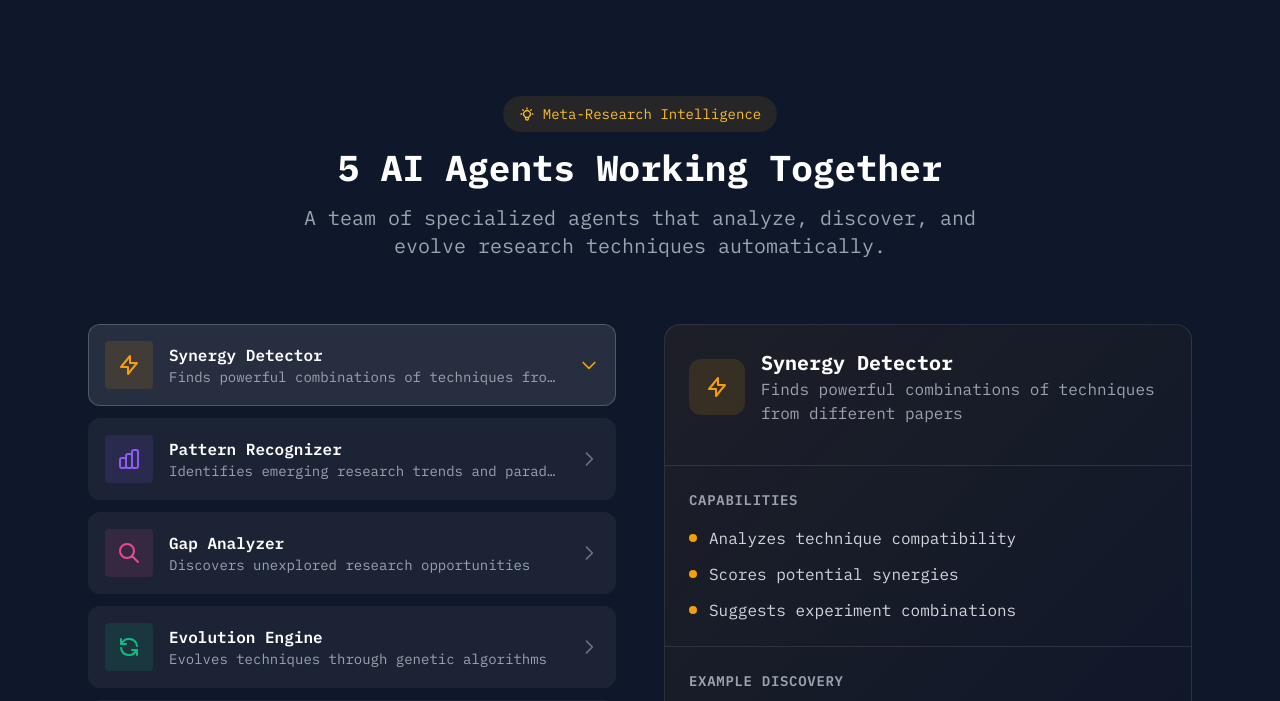
Scenario: MetaAgentFeature › Agent Selection › should switch to Gap Analyzer when clicked
Step 1. Click the button "Gap Analyzer" → point(352, 553), box [88,512,616,594]
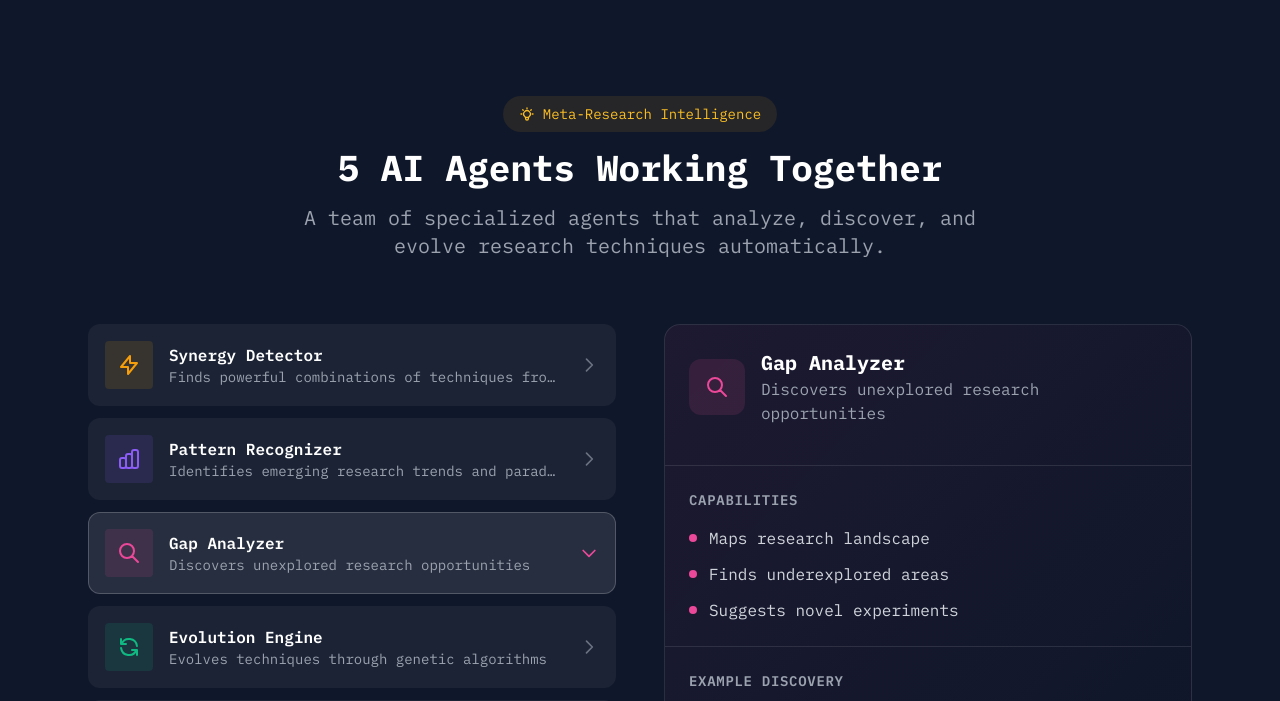
Expected: the text "Maps research landscape" is shown, [709,526,930,550]
